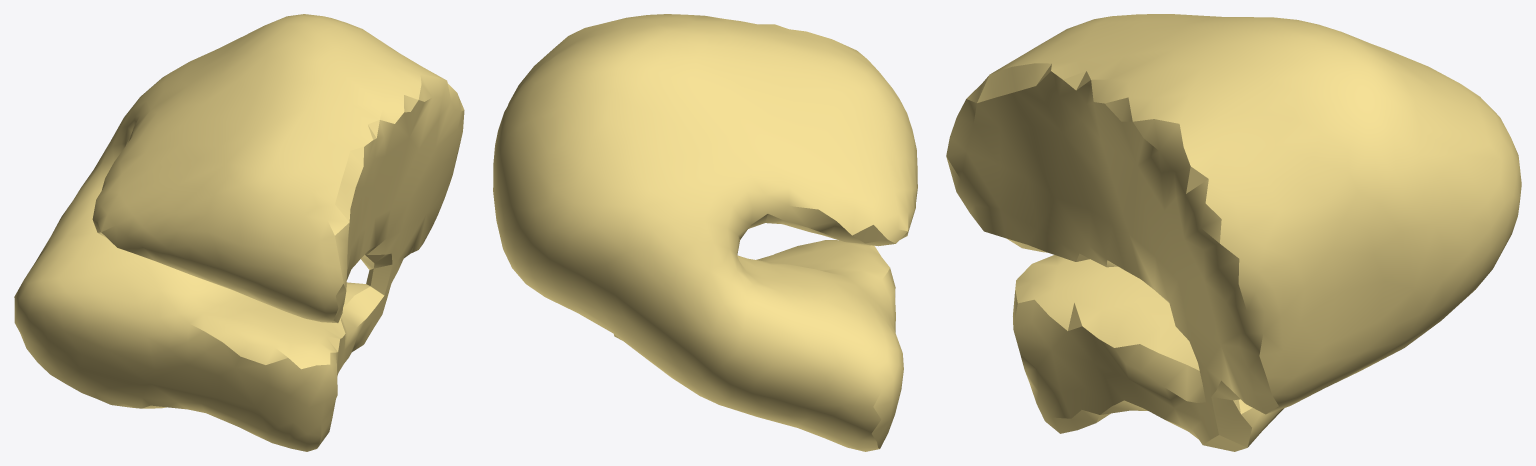
The model's file is fma274983_mm3642m.glb.
3 views of the same model, side by side, from view 1: azimuth 30°, elevation 25°; view 2: azimuth 150°, elevation 25°; view 3: azimuth 270°, elevation 25° (orthographic). The views are drawn at different scales.
Visible parts, largest first — view 1: FMA274983_MM3642M; view 2: FMA274983_MM3642M; view 3: FMA274983_MM3642M.
Part boxes in pixels (x1,y1,x2,y2): FMA274983_MM3642M: (14,14,464,451); FMA274983_MM3642M: (493,14,917,451); FMA274983_MM3642M: (946,14,1521,451).
Size of the model in its own units: 0.00843 by 0.00683 by 0.00795.
